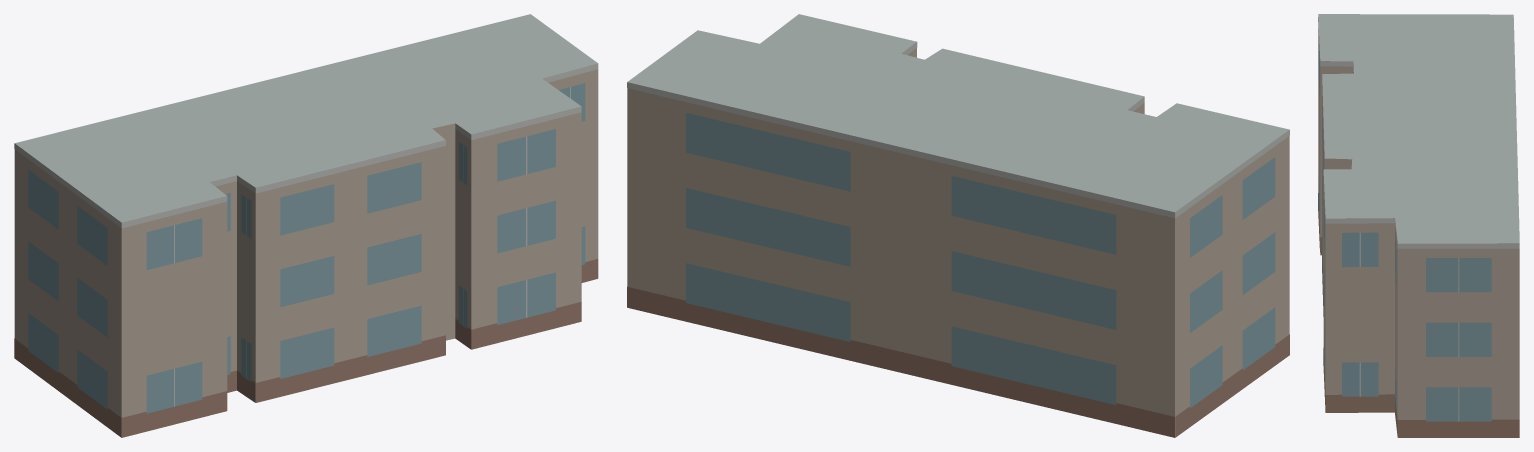
Rendered from survey-upis-32628145.glb.
3 renders of one model, left to right at view 1: azimuth 30°, elevation 25°; view 2: azimuth 150°, elevation 25°; view 3: azimuth 270°, elevation 25°, orthographic. The views are drawn at different scales.
Visible parts, largest first — view 1: survey-upis-32628145.tmp; view 2: survey-upis-32628145.tmp; view 3: survey-upis-32628145.tmp.
Boxes of the visible parts, x1,y1,x2,y2 form: survey-upis-32628145.tmp: (14,14,598,437); survey-upis-32628145.tmp: (627,14,1289,437); survey-upis-32628145.tmp: (1318,14,1519,437).
Bounding box in the file's own units: 23.18 × 9.15 × 8.62.
